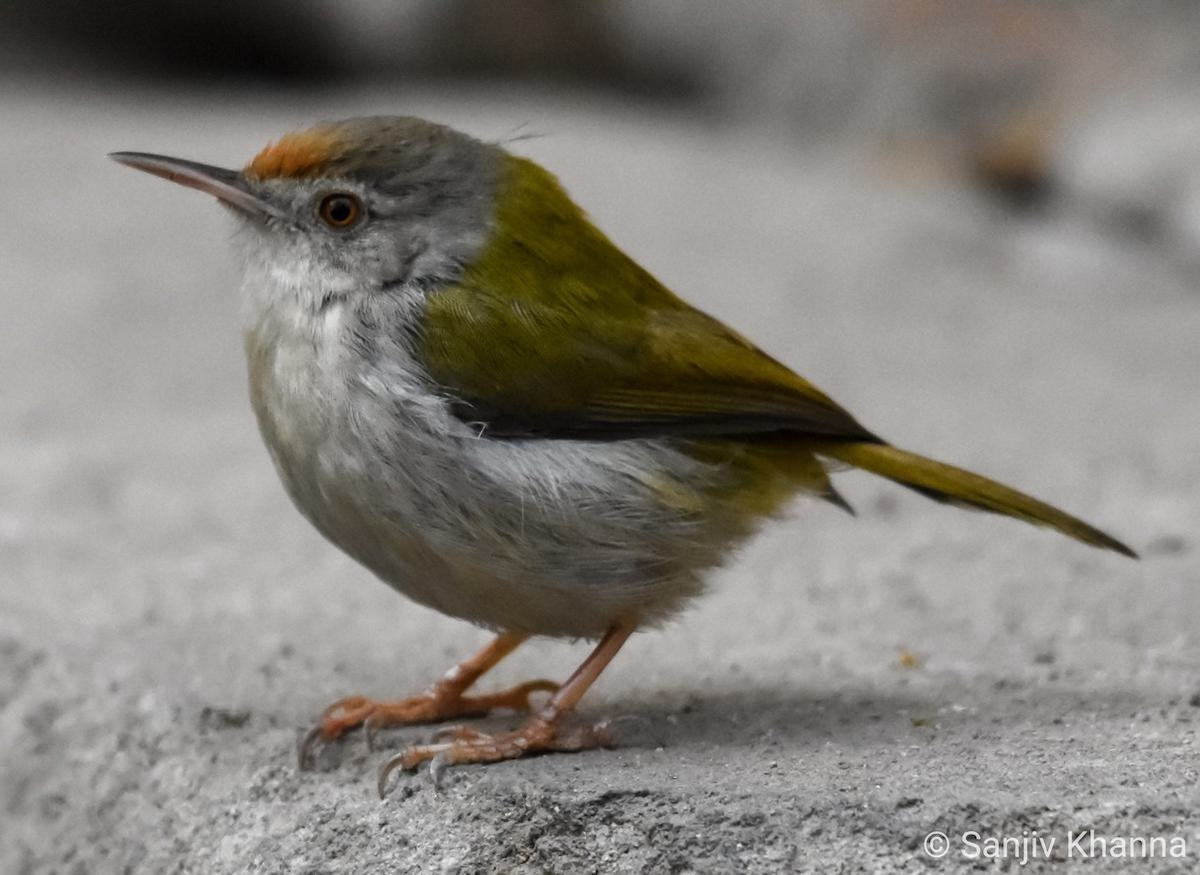tailorbird: (84, 64, 1139, 767)
